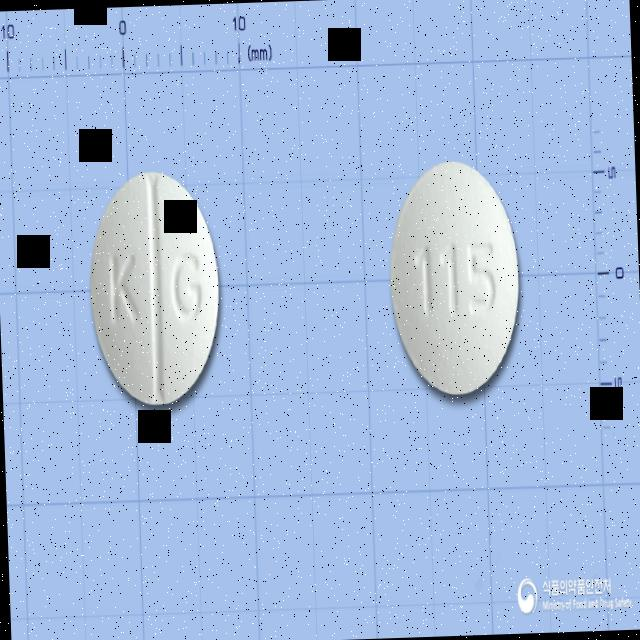Ciprocin - 259mg: (382, 146, 530, 406), (84, 165, 228, 416)
